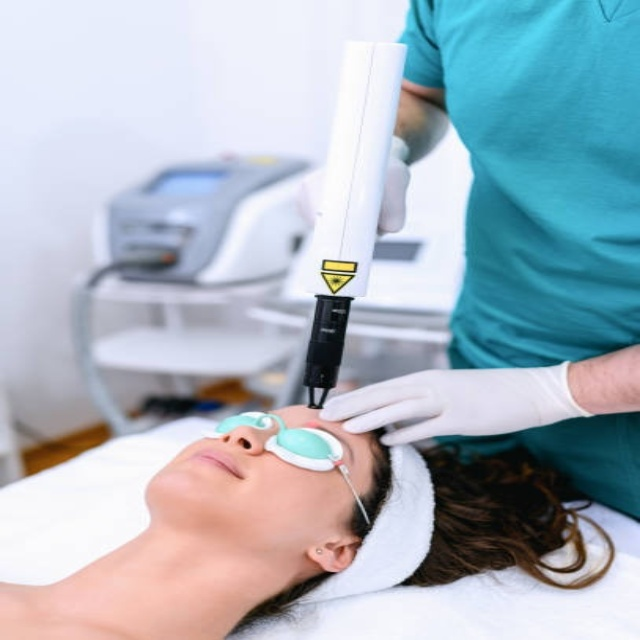Guantes: (319, 361, 596, 446), (293, 156, 410, 241)
Sin_mascara: (164, 442, 264, 503)
